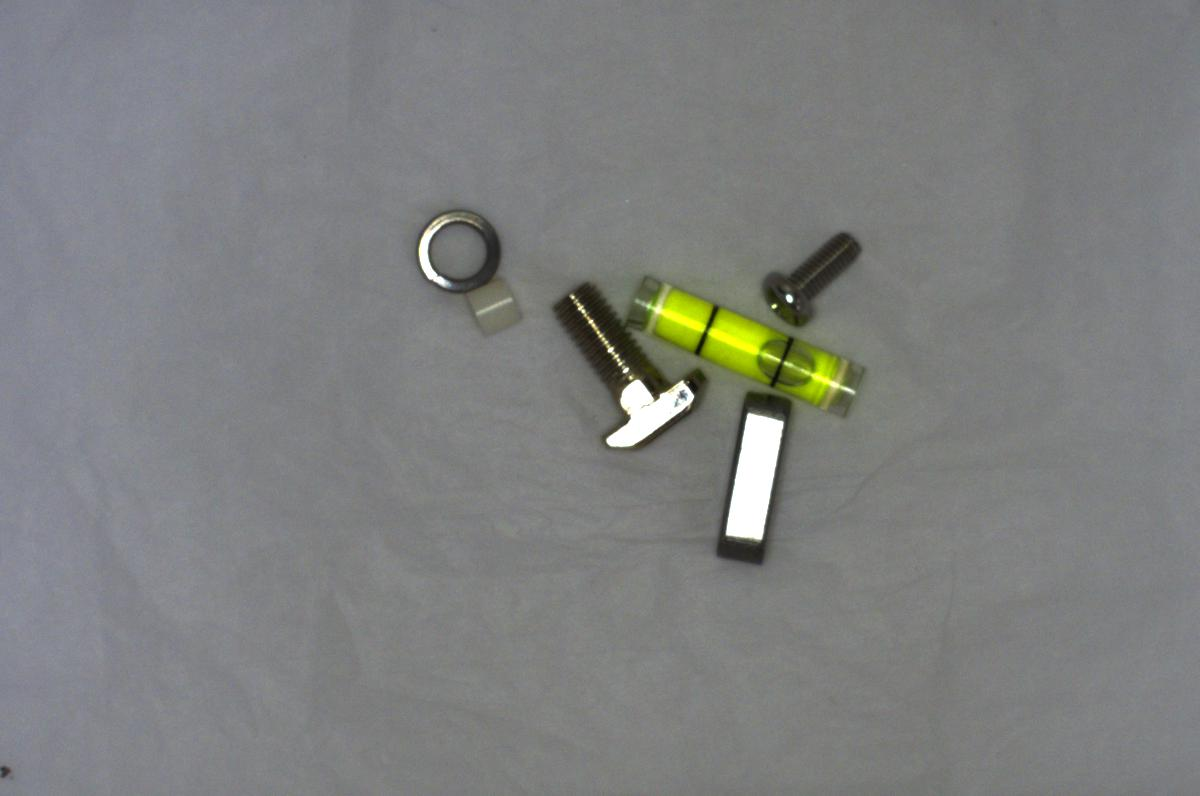Horizontal bubble: (621, 267, 869, 424)
Keybar: (708, 383, 794, 567)
Plastic cushion pillar: (464, 272, 528, 339)
Round head screw: (751, 231, 865, 331)
Spring washer: (408, 204, 508, 298)
T-shaped screw: (548, 277, 705, 451)
